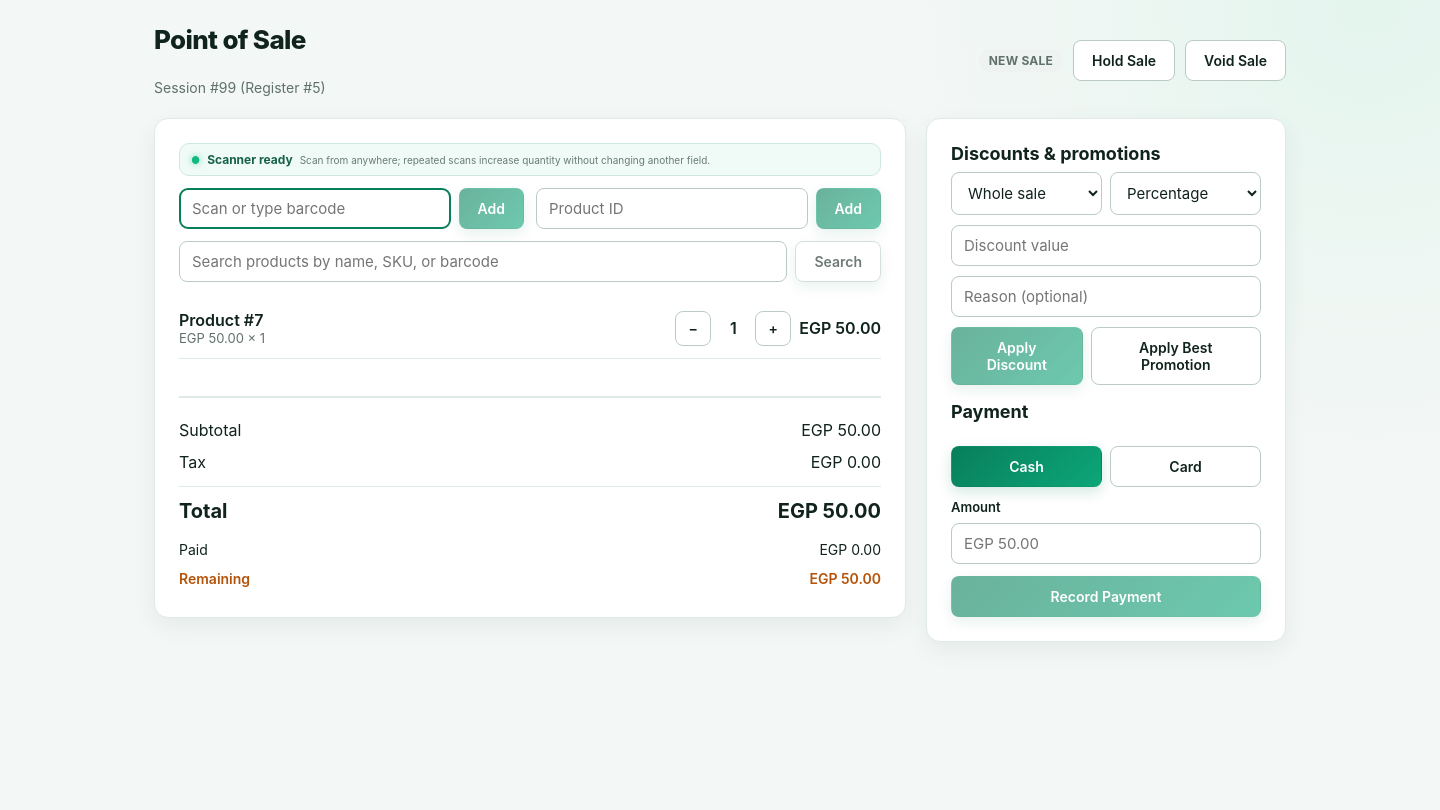
Scenario: PosPage › blocks a retry when the card outcome is uncertain
Expected: the number field with placeholder "EGP 50.00" is shown, [951, 523, 1261, 564]
Click the button "Card".
click(1186, 466)  # box [1110, 446, 1261, 487]
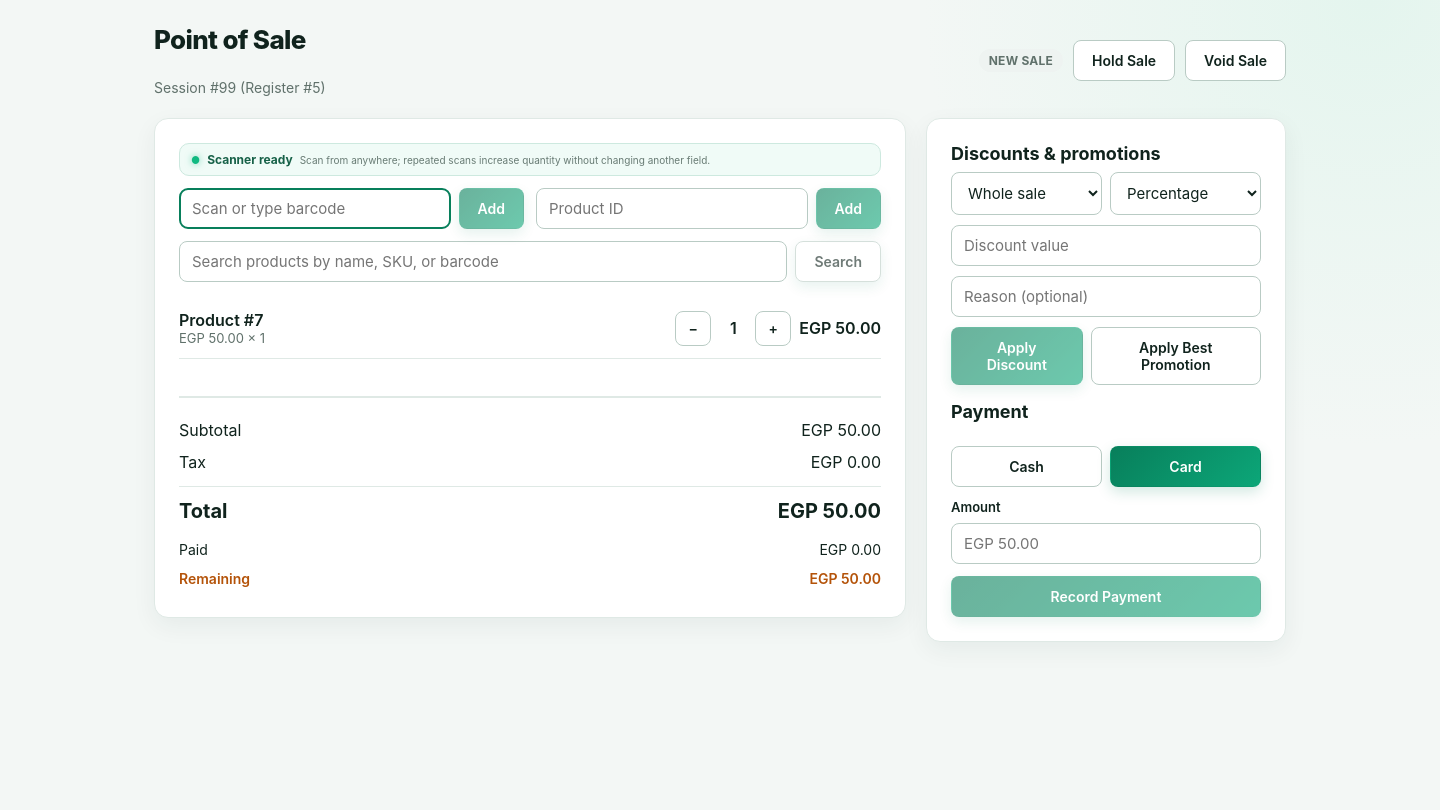
Type "50" into the number field with placeholder "EGP 50.00".
click(1106, 544); type("50")  # box [951, 523, 1261, 564]
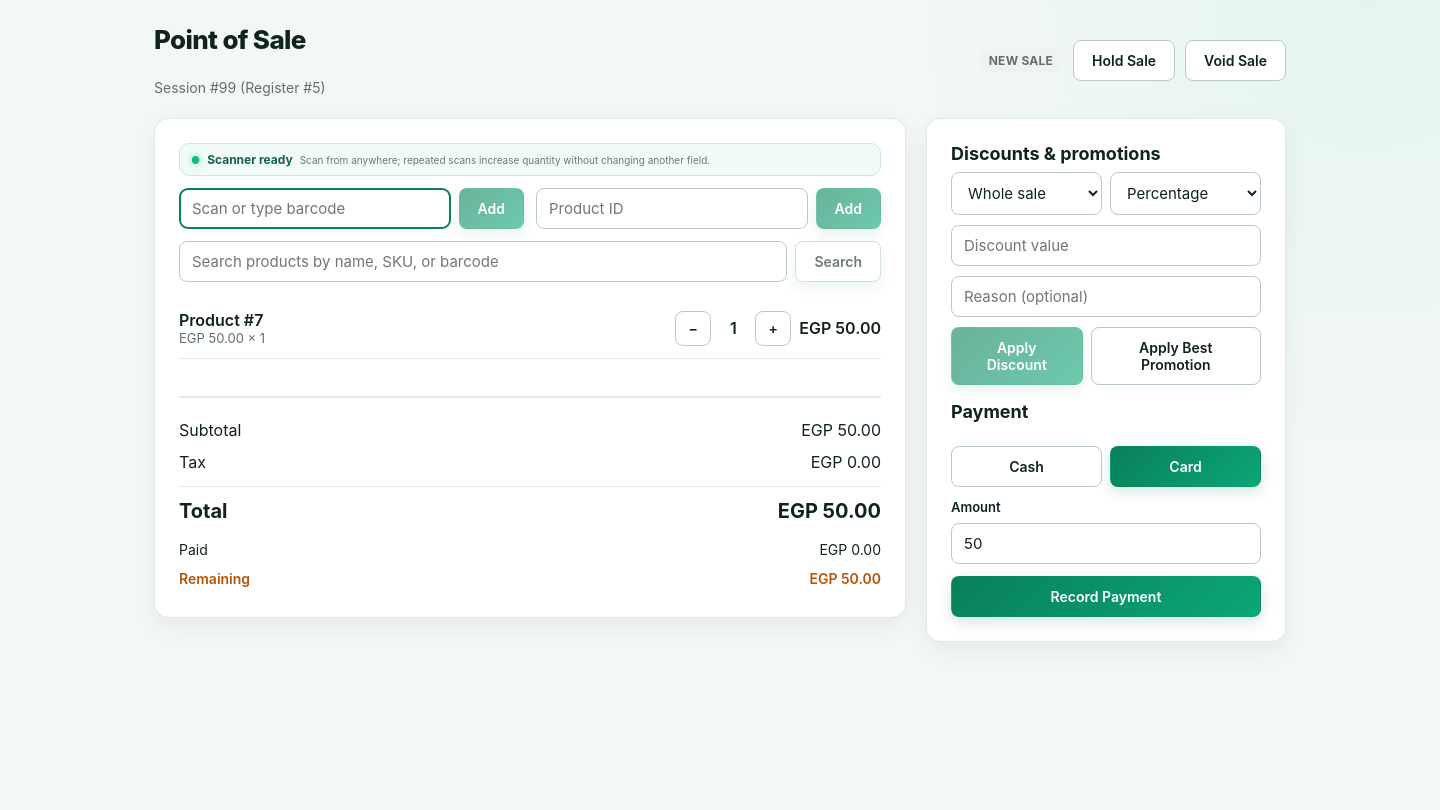
Click the button "Record Payment".
click(1106, 596)  # box [951, 576, 1261, 617]
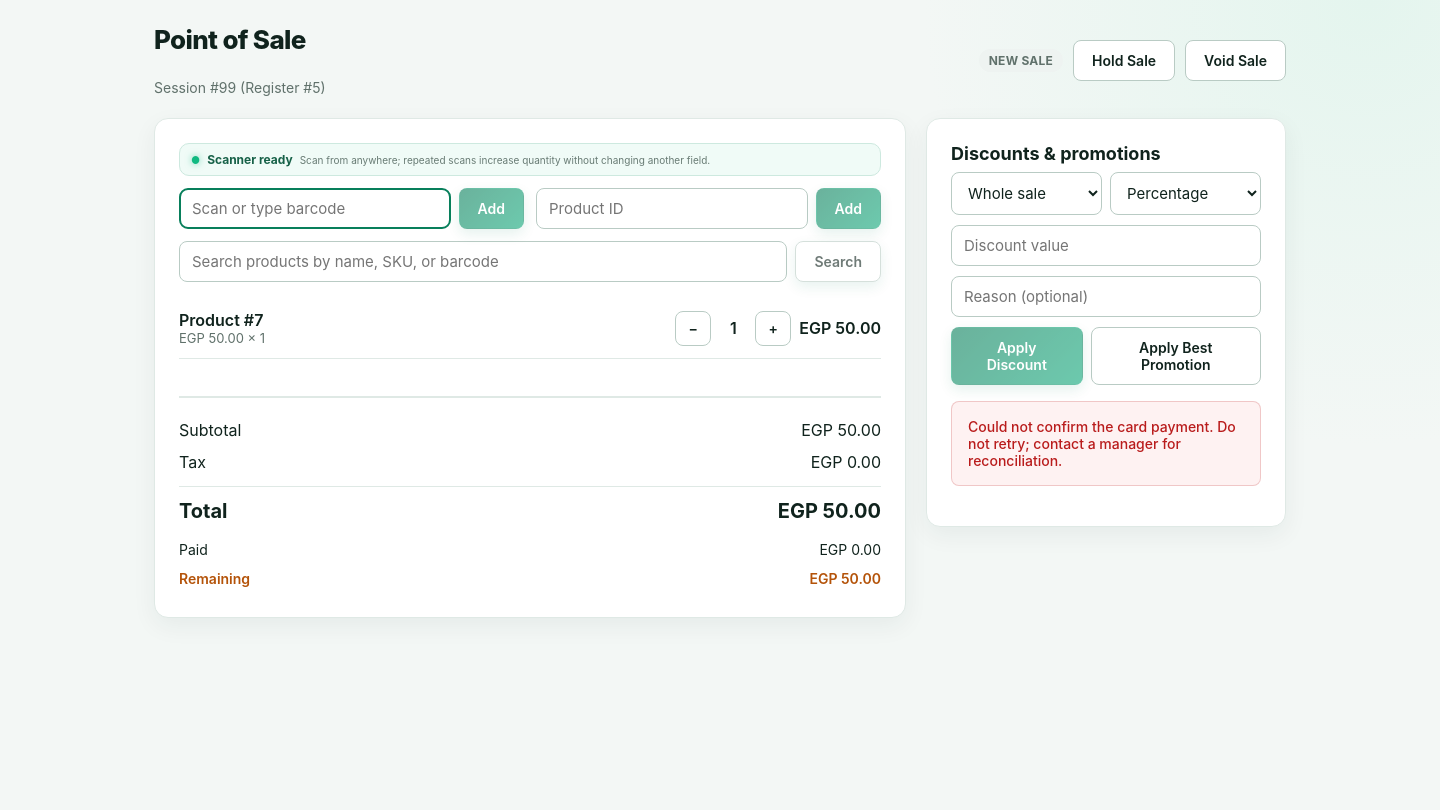
Now the text "Do not retry" is shown, box [968, 418, 1236, 469]
Now the button "Record Payment" is gone
